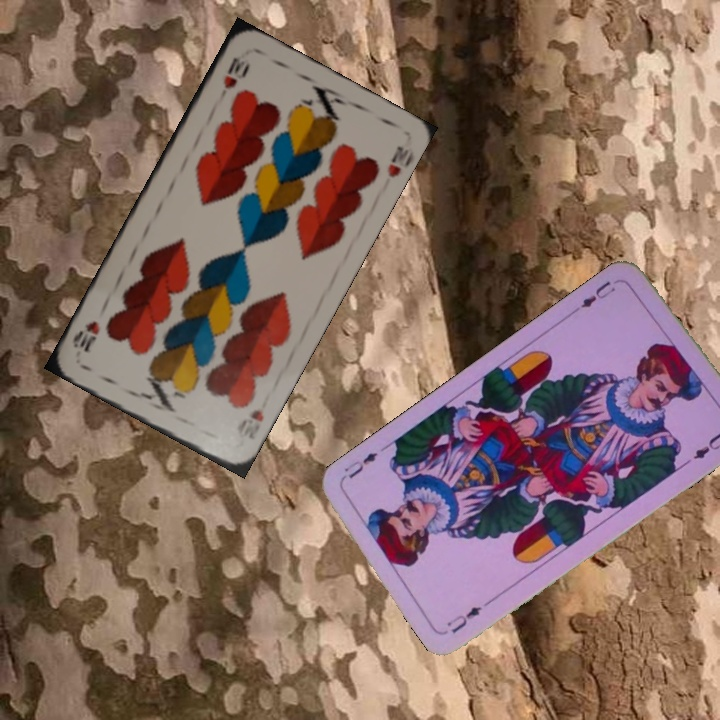EU: (576, 275, 624, 311), (442, 602, 484, 636)
H10: (232, 405, 267, 442), (219, 53, 251, 92)
